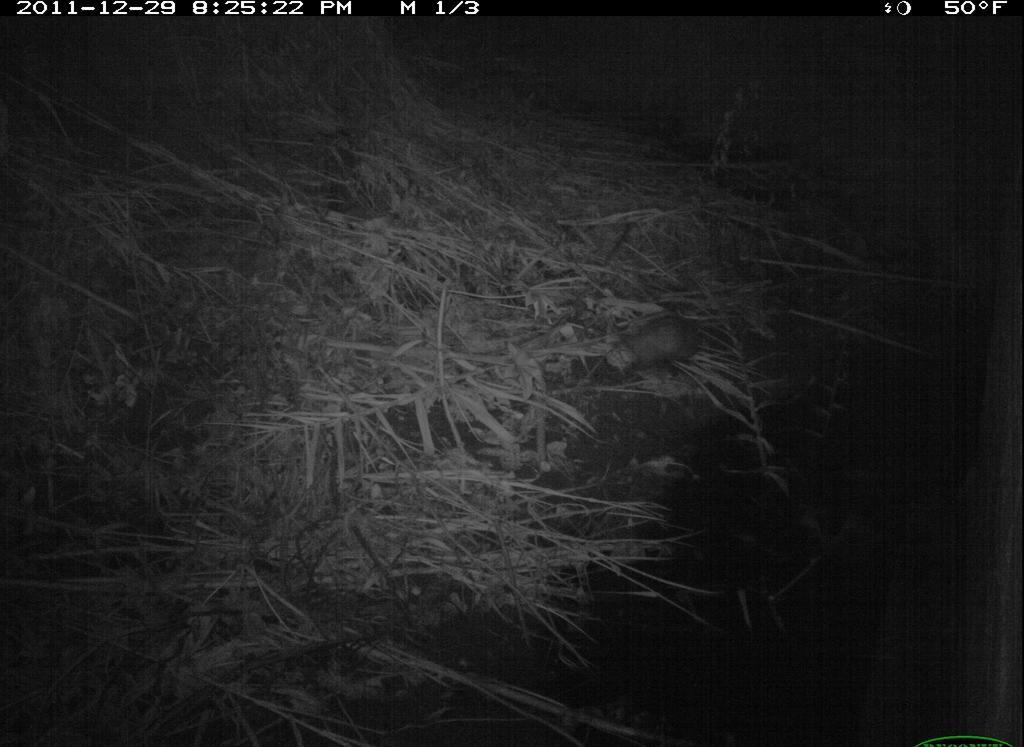opossum: (589, 308, 757, 385)
